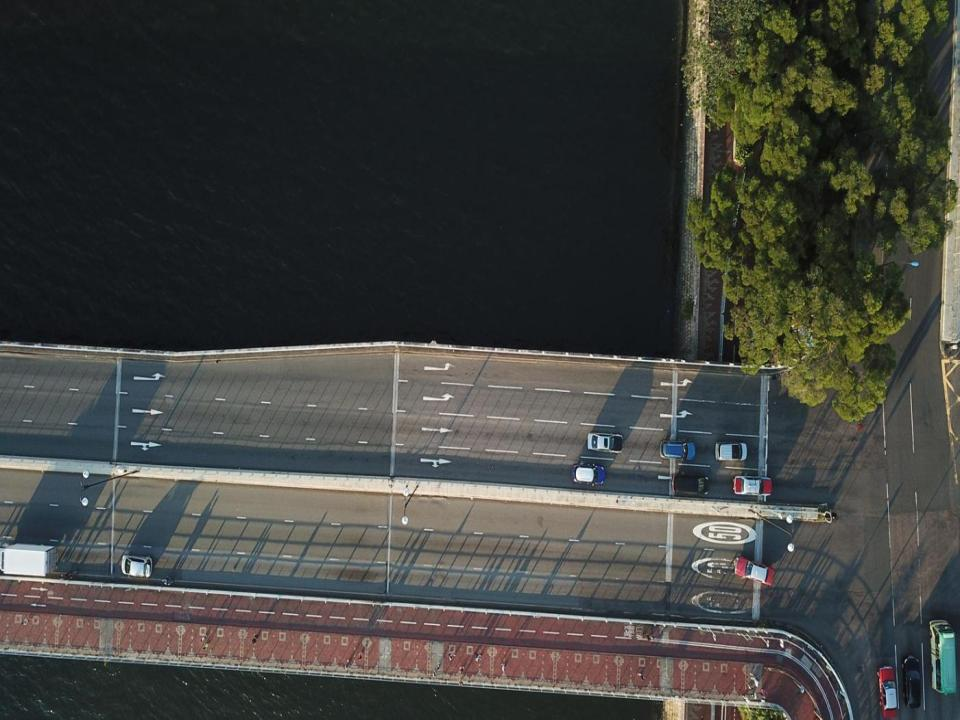bus: (929, 618, 957, 694)
car: (734, 556, 774, 584), (877, 665, 898, 717), (902, 655, 921, 709), (733, 474, 773, 496), (588, 430, 623, 454), (571, 463, 606, 485), (660, 440, 696, 460), (122, 554, 152, 576)
truck: (0, 541, 58, 576)
van: (672, 474, 709, 493), (714, 442, 747, 461)
